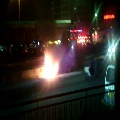fire: (38, 51, 58, 79)
